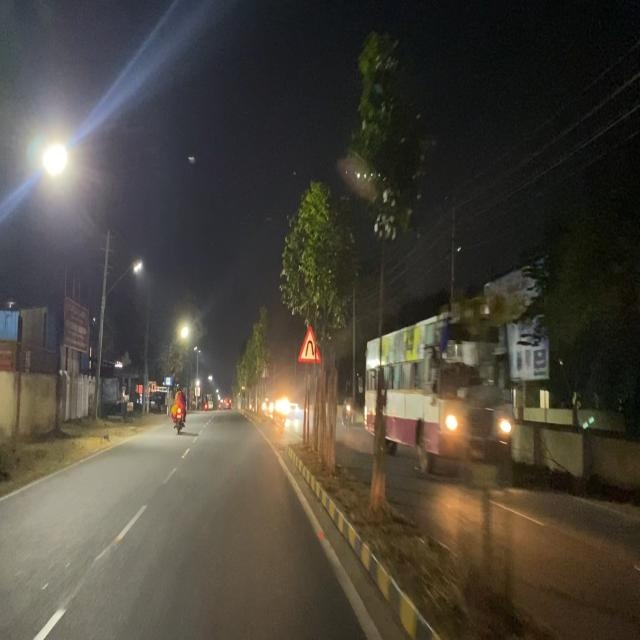bien_nguy_hiem: (298, 322, 322, 364)
